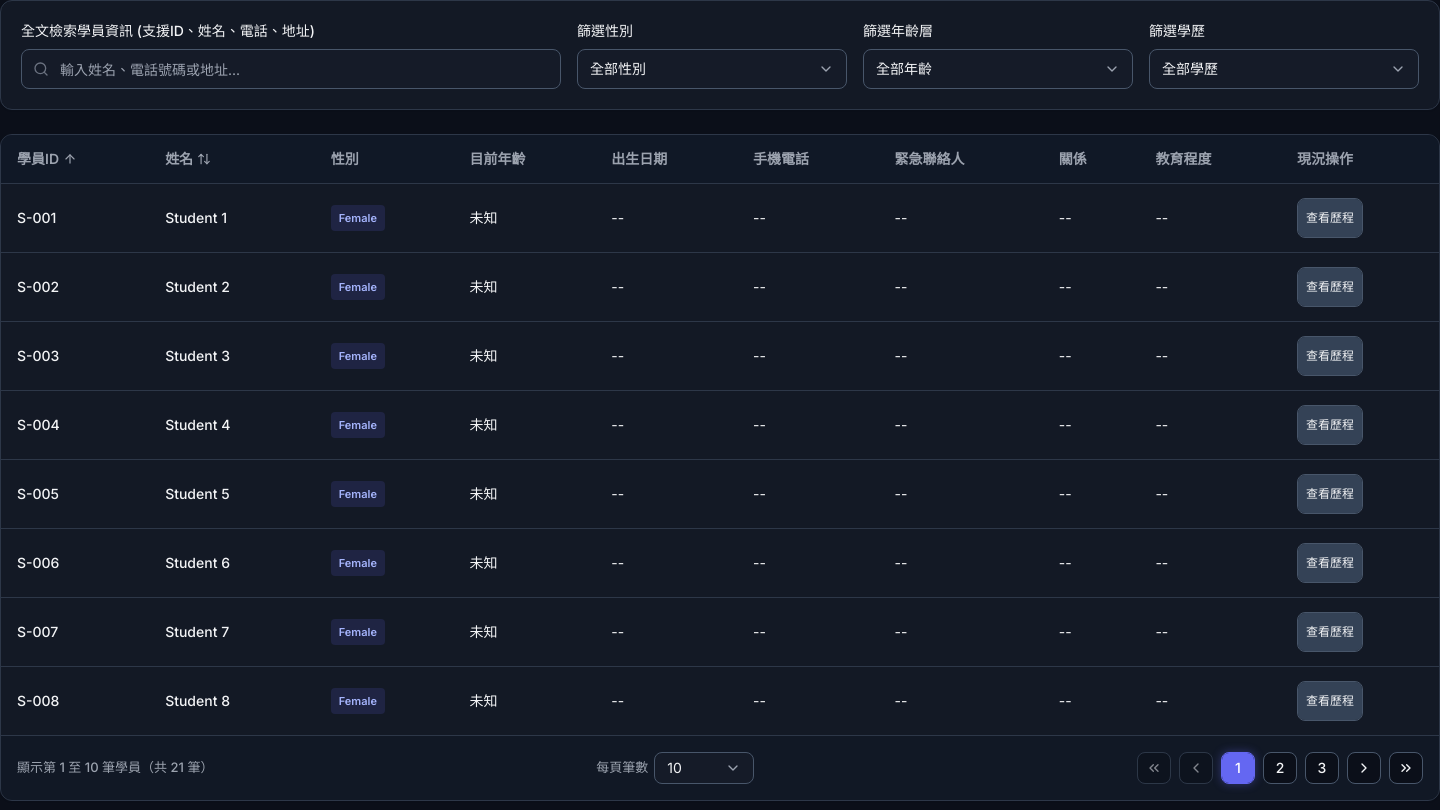
StudentListTab add-student access › jumps directly between the first and last student pages
This screenshot has width=1440, height=810.
Expected: the button named "跳至最前頁" is disabled, [1137, 752, 1171, 784]
What coordinates should you click on to do the following:
click the button named "跳至最尾頁"
I would click on:
 (1406, 768)
Its box is [1389, 752, 1423, 784].
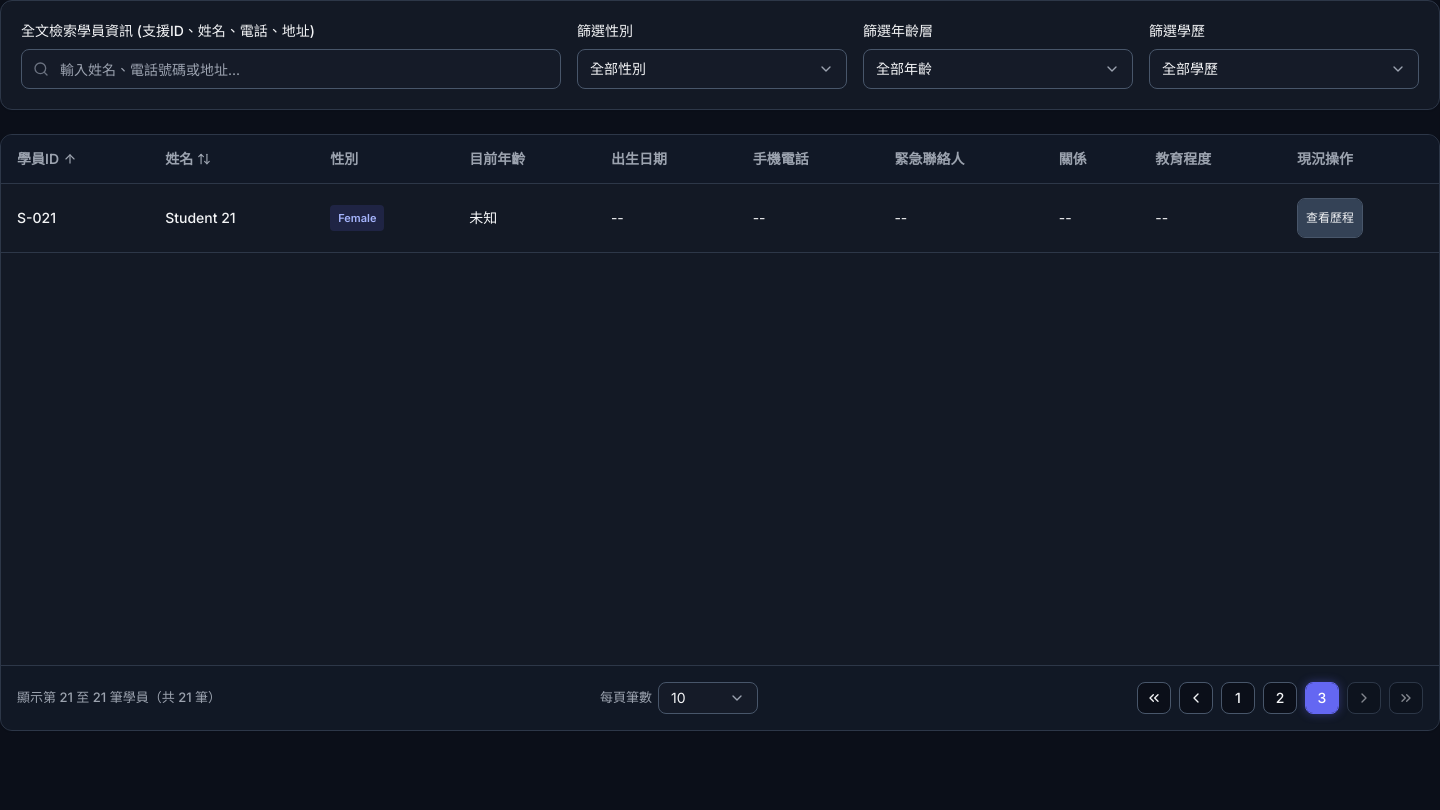
Expected: the text "Student 21" is shown, [149, 184, 314, 252]
Expected: the text "Student 1" is gone
Expected: the button named "跳至最前頁" is enabled
What coordinates should you click on to do the following:
click the button named "跳至最前頁"
I would click on:
 (1154, 698)
Its box is [1137, 682, 1171, 714].
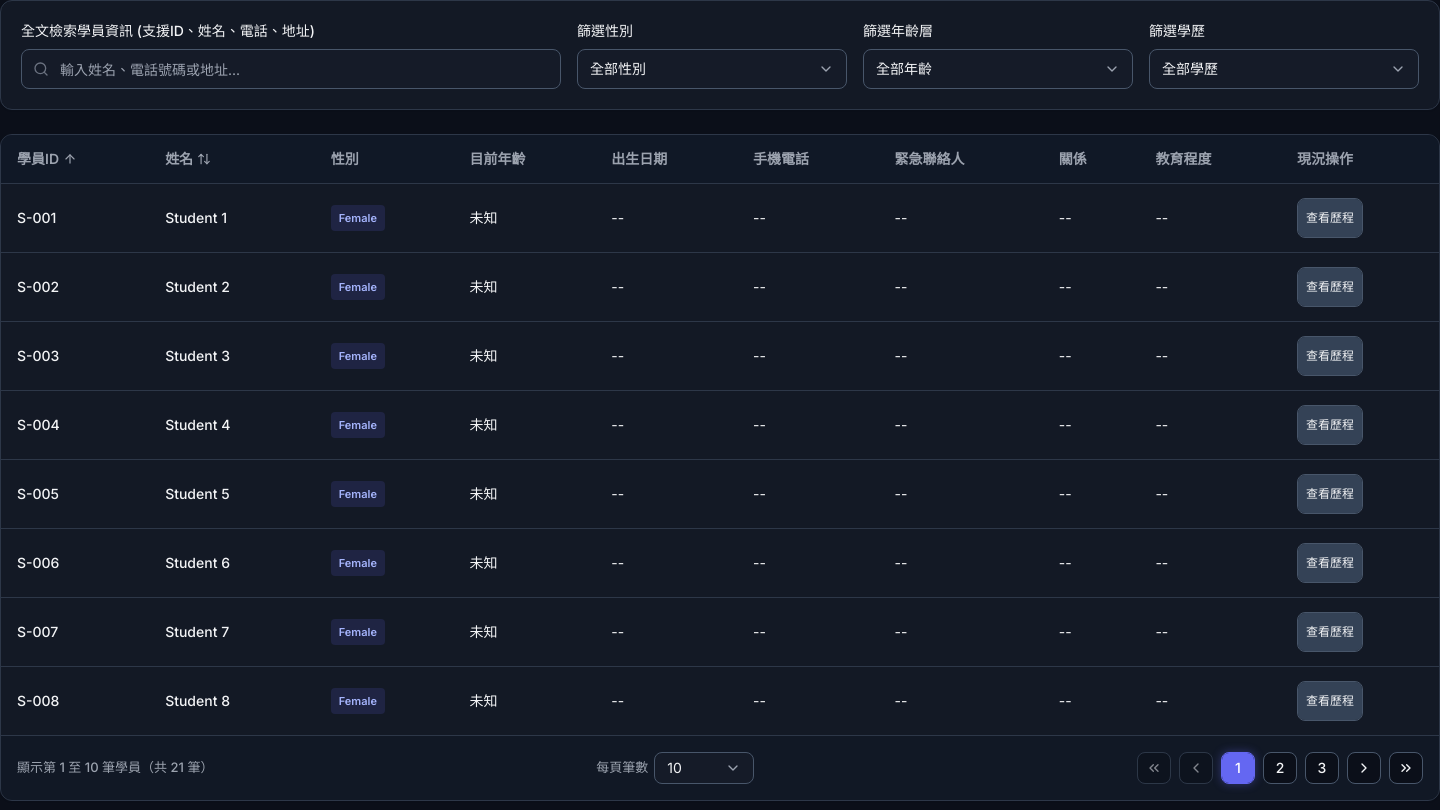
Expected: the text "Student 1" is shown, [149, 184, 315, 252]
Expected: the text "Student 21" is gone
Expected: the button named "跳至最前頁" is disabled, [1137, 752, 1171, 784]
